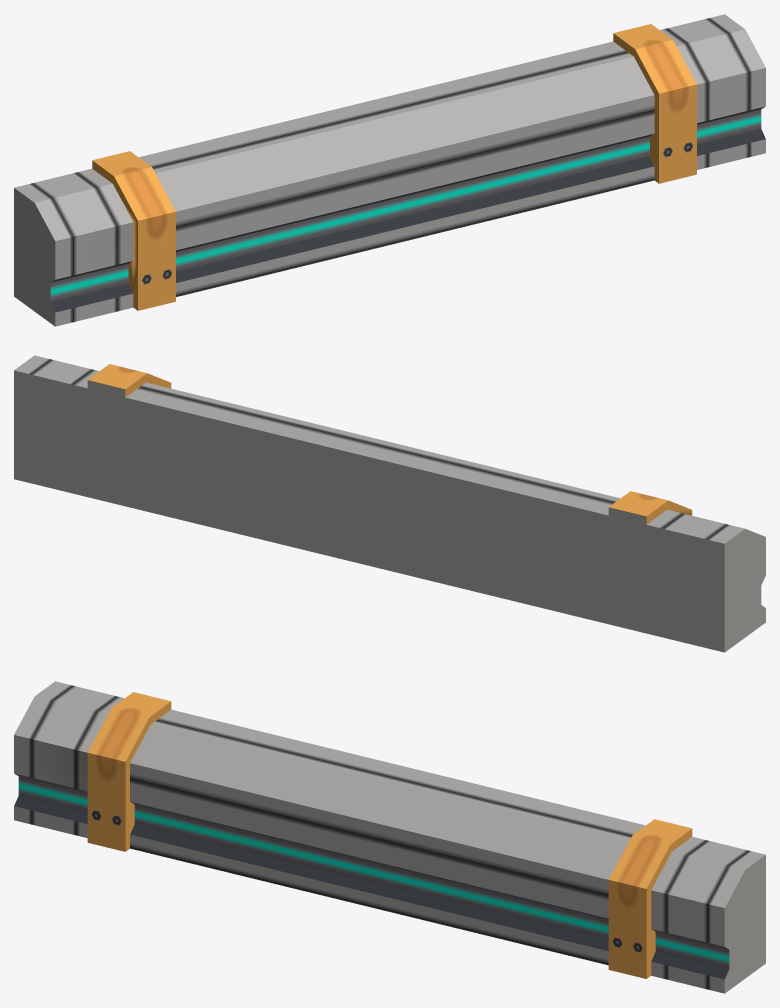
File: cyber_SM_Bld_Floor_Trim_01.gltf
3 views of the same model, one above another, from view 1: azimuth 30°, elevation 25°; view 2: azimuth 150°, elevation 25°; view 3: azimuth 330°, elevation 25° (orthographic).
Visible parts, largest first — view 1: SM_Bld_Floor_Trim_01; view 2: SM_Bld_Floor_Trim_01; view 3: SM_Bld_Floor_Trim_01.
Boxes of the visible parts, bbox=[...] form: SM_Bld_Floor_Trim_01: bbox=[14, 14, 765, 326]; SM_Bld_Floor_Trim_01: bbox=[14, 355, 765, 652]; SM_Bld_Floor_Trim_01: bbox=[14, 681, 765, 993].
Bounding box in the file's own units: 2.5 × 0.3937 × 0.2793.
1 material, 1 textured.
